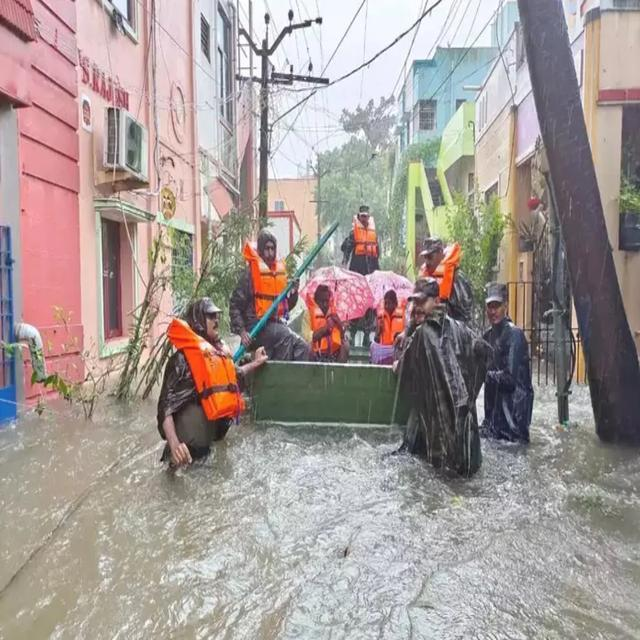Person-RiskLevel3: (150, 292, 271, 481), (404, 285, 488, 485), (231, 228, 309, 364), (482, 276, 526, 445), (398, 225, 474, 319), (306, 267, 344, 367), (339, 197, 383, 282), (373, 268, 406, 372)
